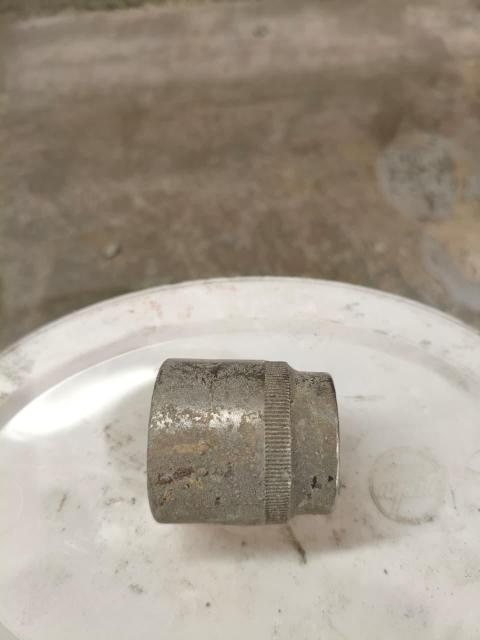Metal: (147, 357, 341, 528)
